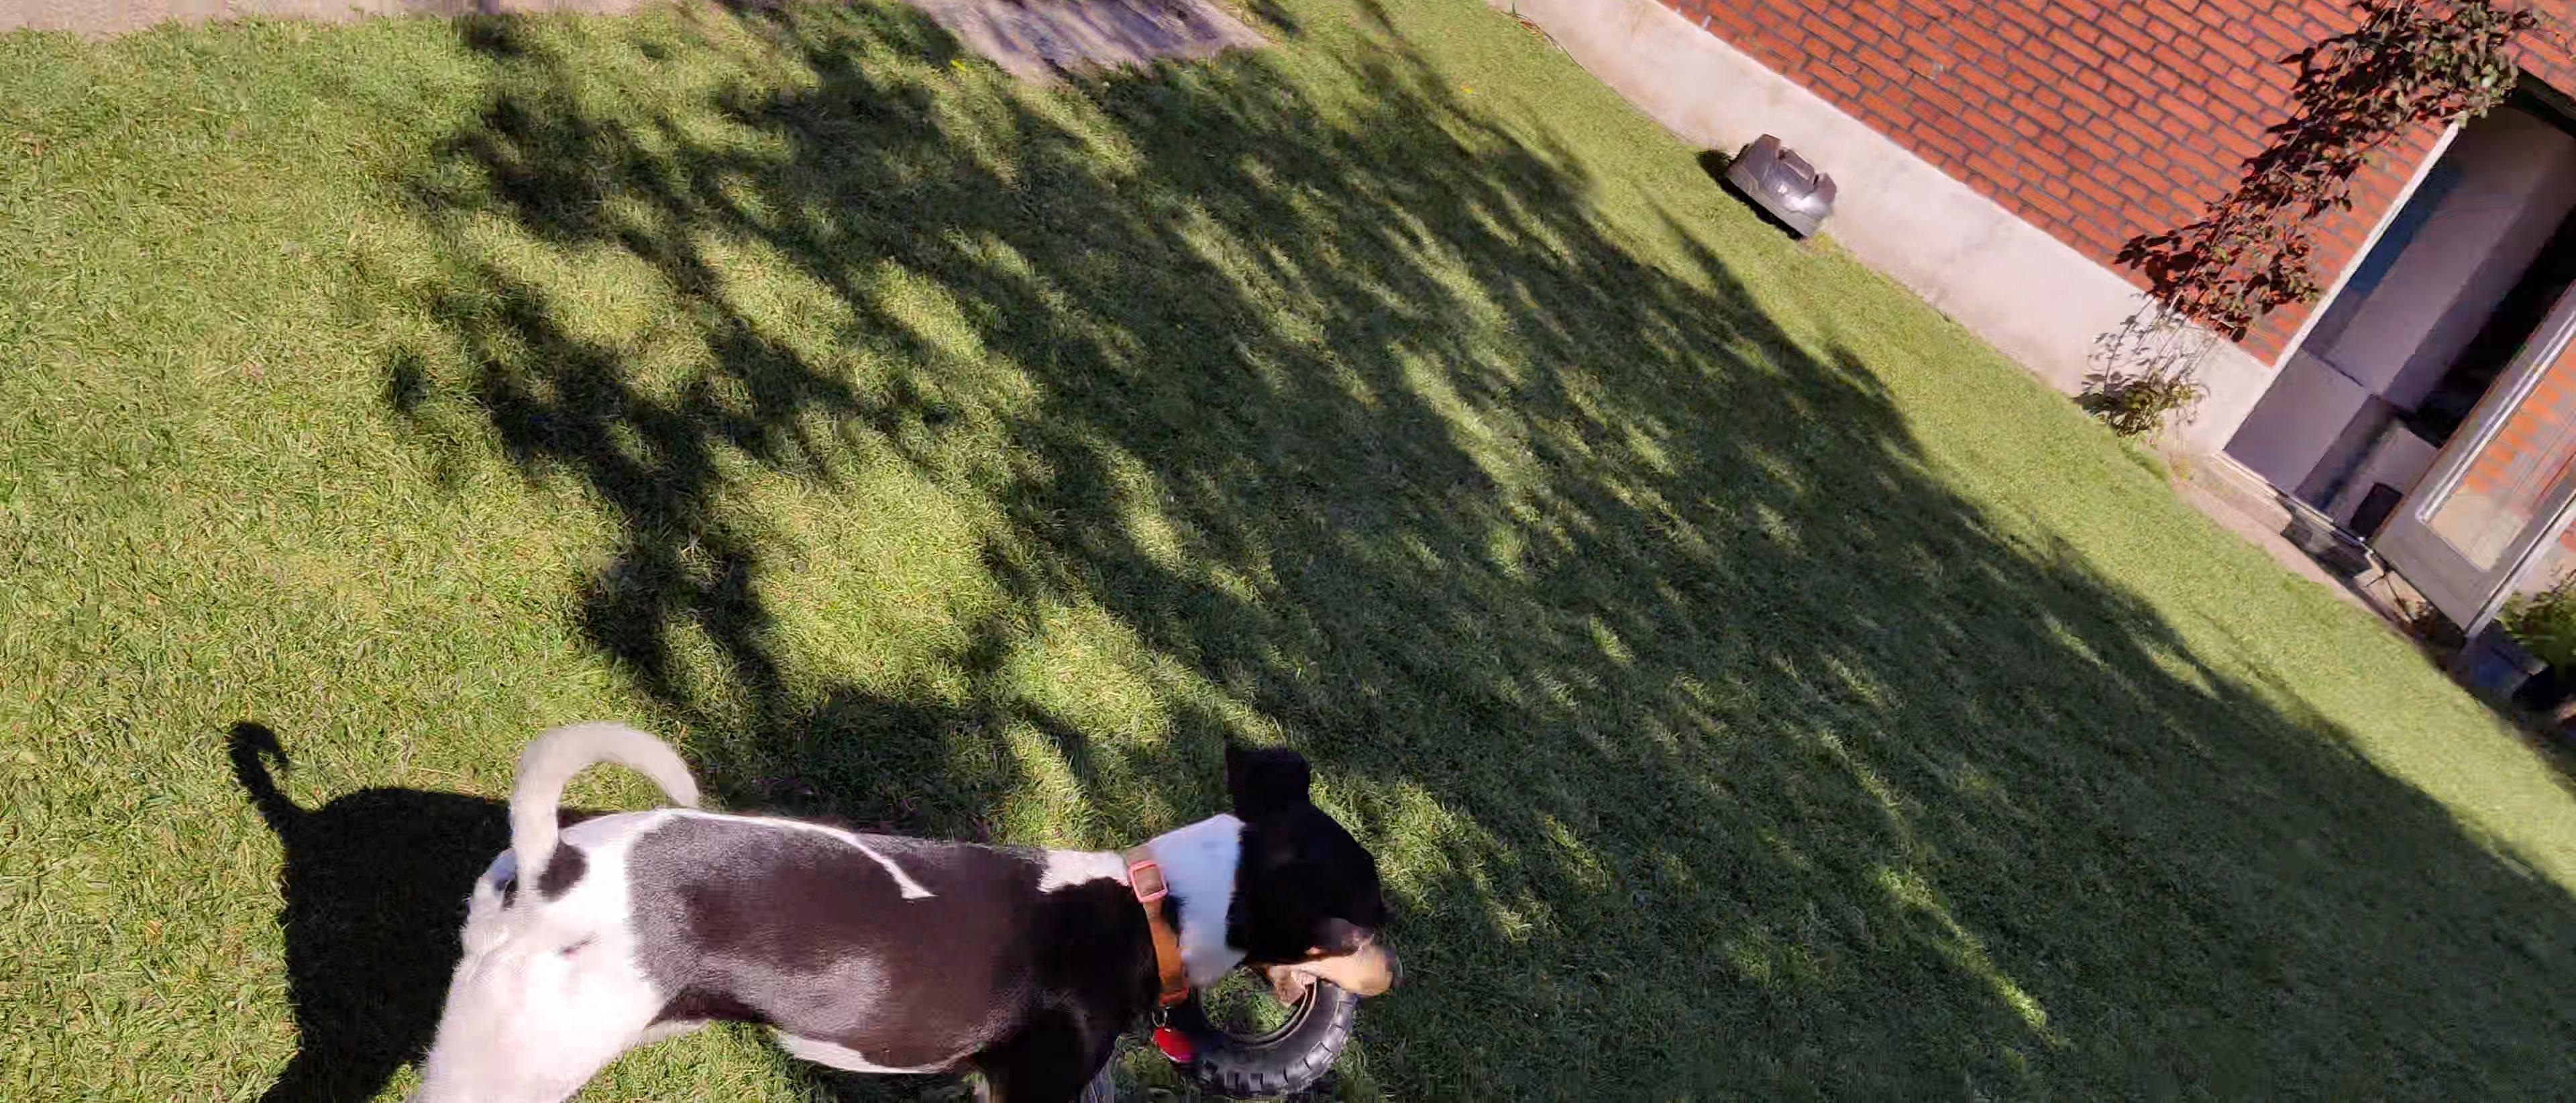Dog: (399, 708, 1423, 1103)
